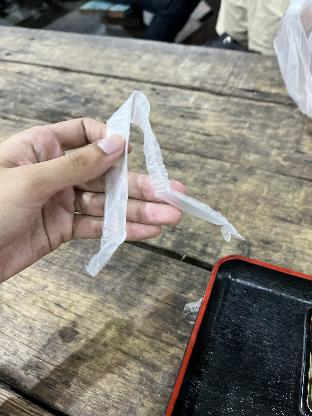Others: (87, 90, 250, 278)
